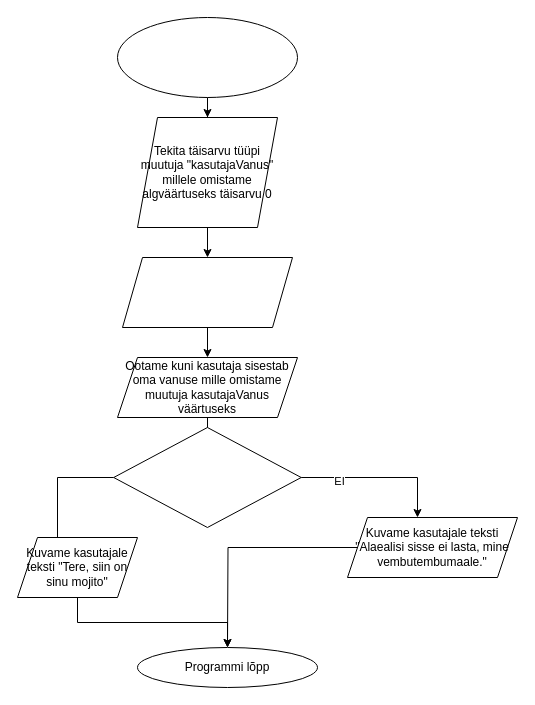
Image size: 535x705. Some labels were removed from this diagram. Here are the shapes that lost their labels. From the top down, the centre of each, then its label:
(207,57): Programmi algus
(207,292): Kuva kasutajale tekst "Kui vana sa oled?"
(207,477): Kas kasutaja sisestatud vanus on suurem kui 18
